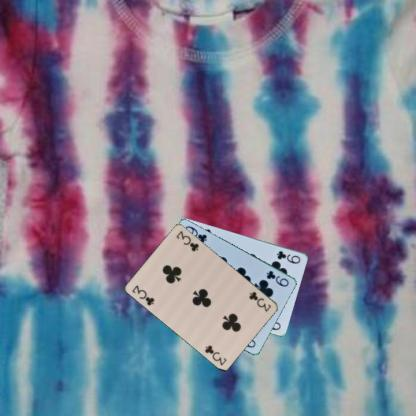3c: (130, 282, 156, 307), (246, 289, 272, 313)
9c: (264, 268, 290, 288), (274, 248, 301, 264)
